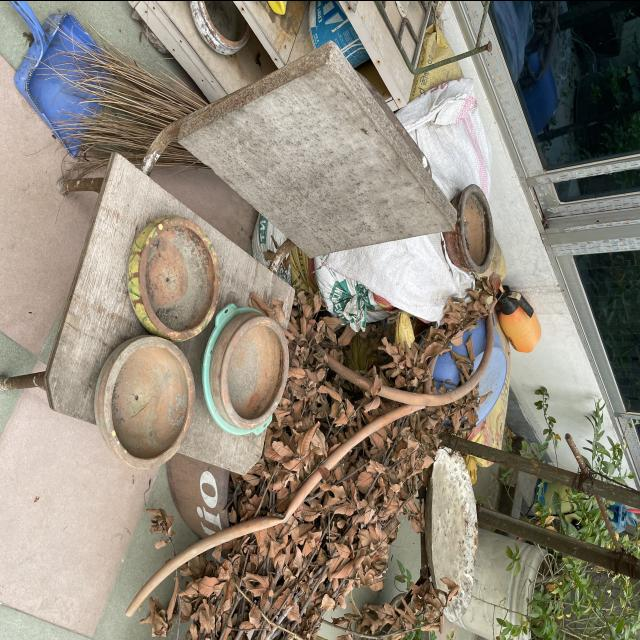Breeding Place: (11, 14, 111, 154), (89, 344, 195, 464), (127, 213, 214, 345), (216, 318, 290, 426)
